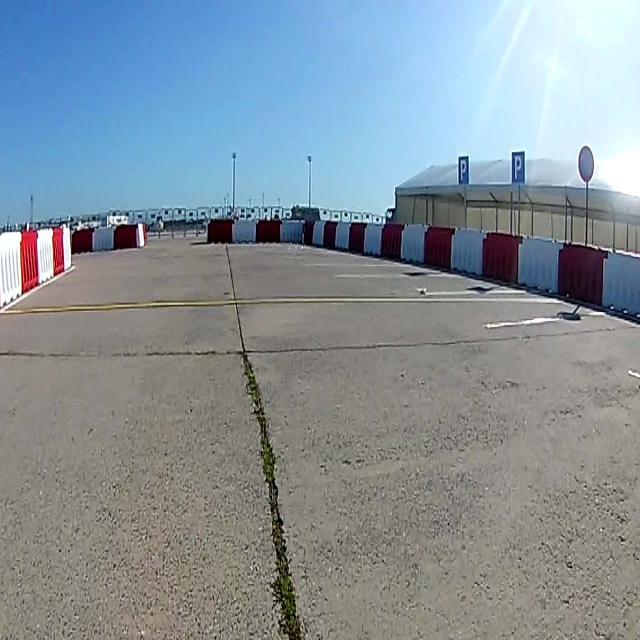park: (512, 151, 525, 181), (458, 155, 468, 183)
